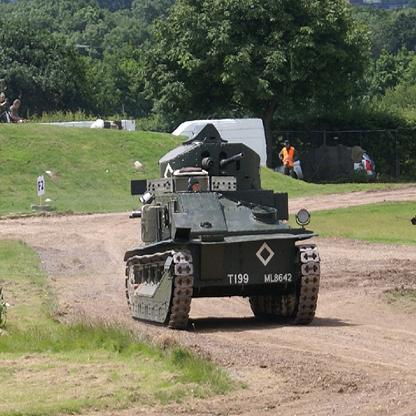Tank: (123, 119, 329, 347)
